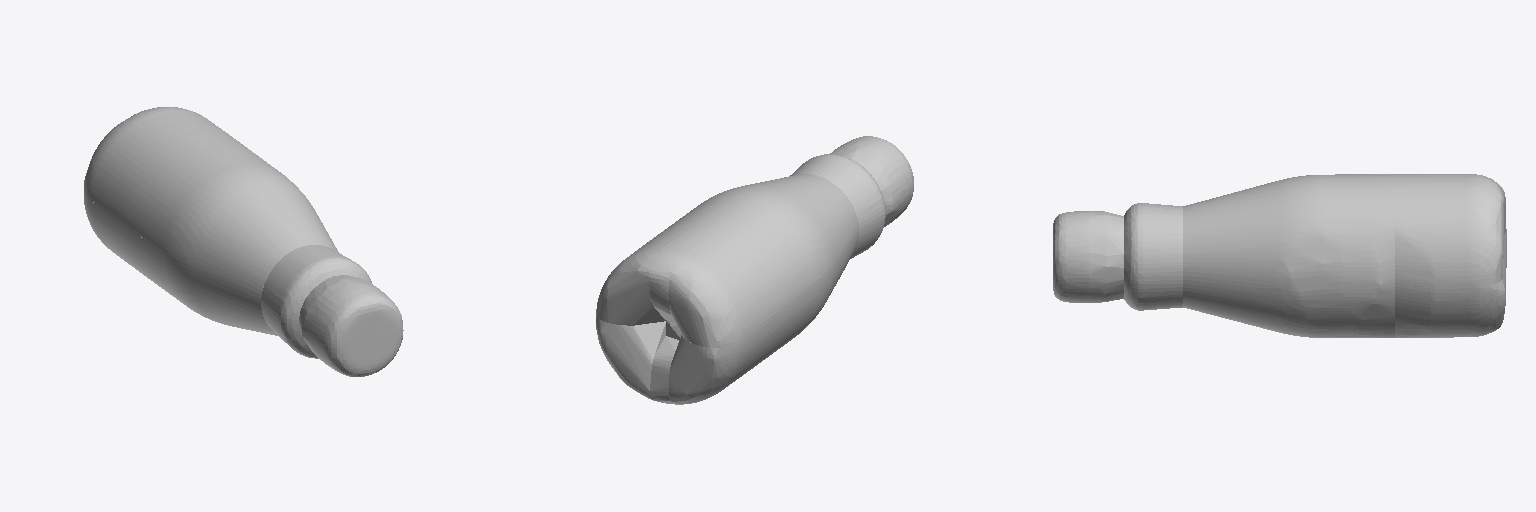
Rendered from coacd_collision.obj.
The picture shows the model from 3 angles: view 1: azimuth 30°, elevation 25°; view 2: azimuth 150°, elevation 25°; view 3: azimuth 270°, elevation 25°; orthographic projection.
Visible parts, largest first — view 1: geometry_6, geometry_0, geometry_7, geometry_1, geometry_5, geometry_2, geometry_4; view 2: geometry_6, geometry_7, geometry_4, geometry_1, geometry_5, geometry_3, geometry_0, geometry_9, geometry_2; view 3: geometry_2, geometry_4, geometry_0, geometry_1, geometry_3, geometry_5, geometry_6.
Part boxes in pixels (x1,y1,x2,y2): geometry_6: (84, 113, 291, 297); geometry_0: (299, 275, 403, 376); geometry_7: (84, 193, 277, 335); geometry_1: (261, 245, 371, 358); geometry_5: (139, 107, 309, 250); geometry_2: (205, 138, 338, 252); geometry_4: (159, 107, 242, 144); geometry_6: (668, 180, 858, 347); geometry_7: (669, 229, 858, 404); geometry_4: (596, 222, 703, 325); geometry_1: (790, 154, 885, 258); geometry_5: (649, 174, 826, 322); geometry_3: (596, 317, 665, 398); geometry_0: (830, 136, 913, 226); geometry_9: (650, 336, 678, 403); geometry_2: (665, 174, 807, 229); geometry_2: (1183, 185, 1394, 337); geometry_4: (1395, 185, 1503, 287); geometry_0: (1053, 211, 1123, 302); geometry_1: (1124, 203, 1182, 310); geometry_3: (1395, 278, 1505, 337); geometry_5: (1183, 177, 1503, 213); geometry_6: (1183, 174, 1505, 233).
Bounding box in the file's own units: 60.8 × 60.94 × 169.